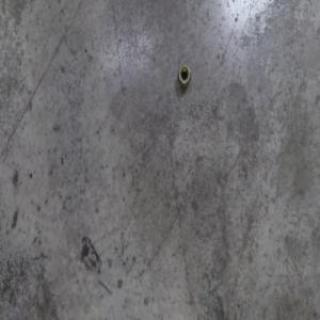Nuttrack_idkeyframe: (176, 63, 191, 90)
